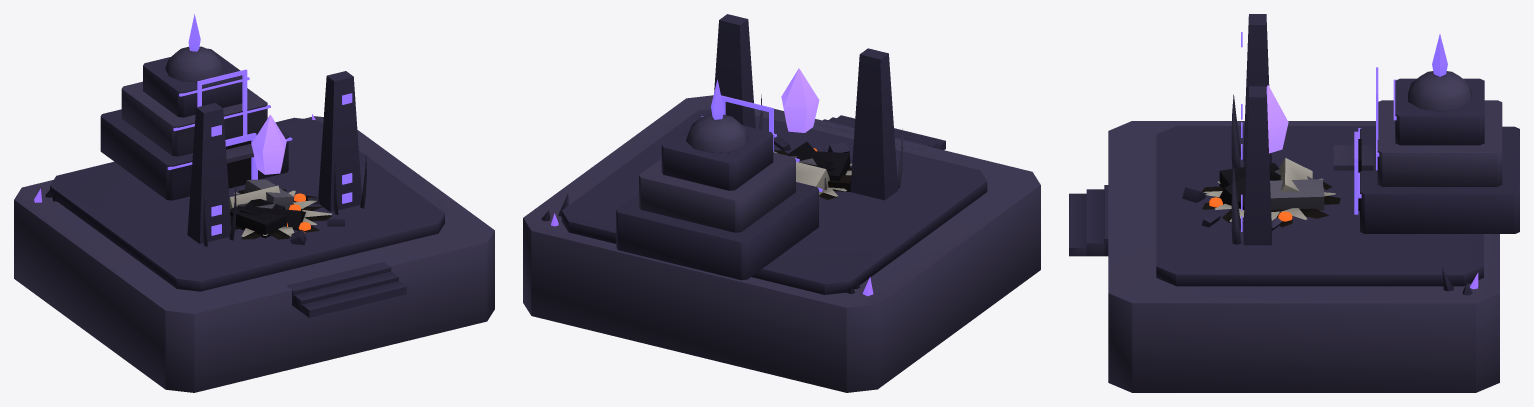
The model's file is sealed-vault-umbra.glb.
3 views of the same model, side by side, from view 1: azimuth 30°, elevation 25°; view 2: azimuth 150°, elevation 25°; view 3: azimuth 270°, elevation 25° (orthographic). The views are drawn at different scales.
Parts seen in each view (by area): view 1: site_sealed_vault_umbra_body, site_sealed_vault_umbra_ruin, site_sealed_vault_umbra_core; view 2: site_sealed_vault_umbra_body, site_sealed_vault_umbra_ruin, site_sealed_vault_umbra_core; view 3: site_sealed_vault_umbra_body, site_sealed_vault_umbra_ruin, site_sealed_vault_umbra_core.
Boxes of the visible parts, box(x1,y1,x2,y2) form: site_sealed_vault_umbra_body: box(14, 14, 494, 392); site_sealed_vault_umbra_ruin: box(229, 179, 344, 244); site_sealed_vault_umbra_core: box(251, 114, 286, 174); site_sealed_vault_umbra_body: box(523, 14, 1040, 392); site_sealed_vault_umbra_ruin: box(774, 137, 852, 199); site_sealed_vault_umbra_core: box(781, 68, 819, 132); site_sealed_vault_umbra_body: box(1069, 14, 1519, 392); site_sealed_vault_umbra_ruin: box(1182, 158, 1340, 230); site_sealed_vault_umbra_core: box(1266, 85, 1288, 153).
Bounding box in the file's own units: 5.4 × 3.7 × 5.64.
